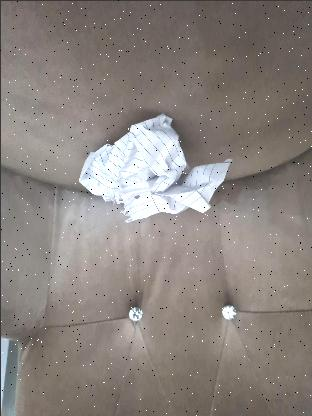Others: (71, 112, 231, 224)
